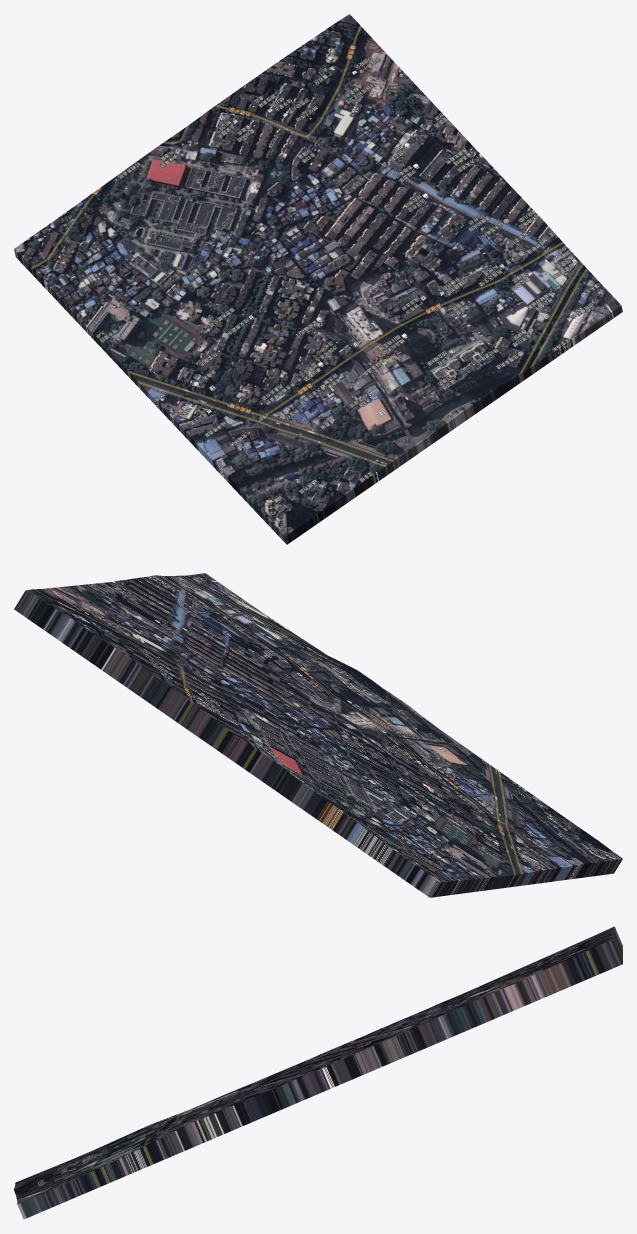
3 views of the same model, one above another, from view 1: azimuth 30°, elevation 25°; view 2: azimuth 150°, elevation 25°; view 3: azimuth 270°, elevation 25° (orthographic). The views are drawn at different scales.
Parts seen in each view (by area): view 1: 0_16_11; view 2: 0_16_11; view 3: 0_16_11.
Boxes of the visible parts, x1=… form: 0_16_11: x1=14, y1=14, x2=622, y2=544; 0_16_11: x1=14, y1=573, x2=622, y2=897; 0_16_11: x1=14, y1=926, x2=622, y2=1219.
Size of the model in its own units: 599 by 448 by 551.
1 material, 1 textured.
